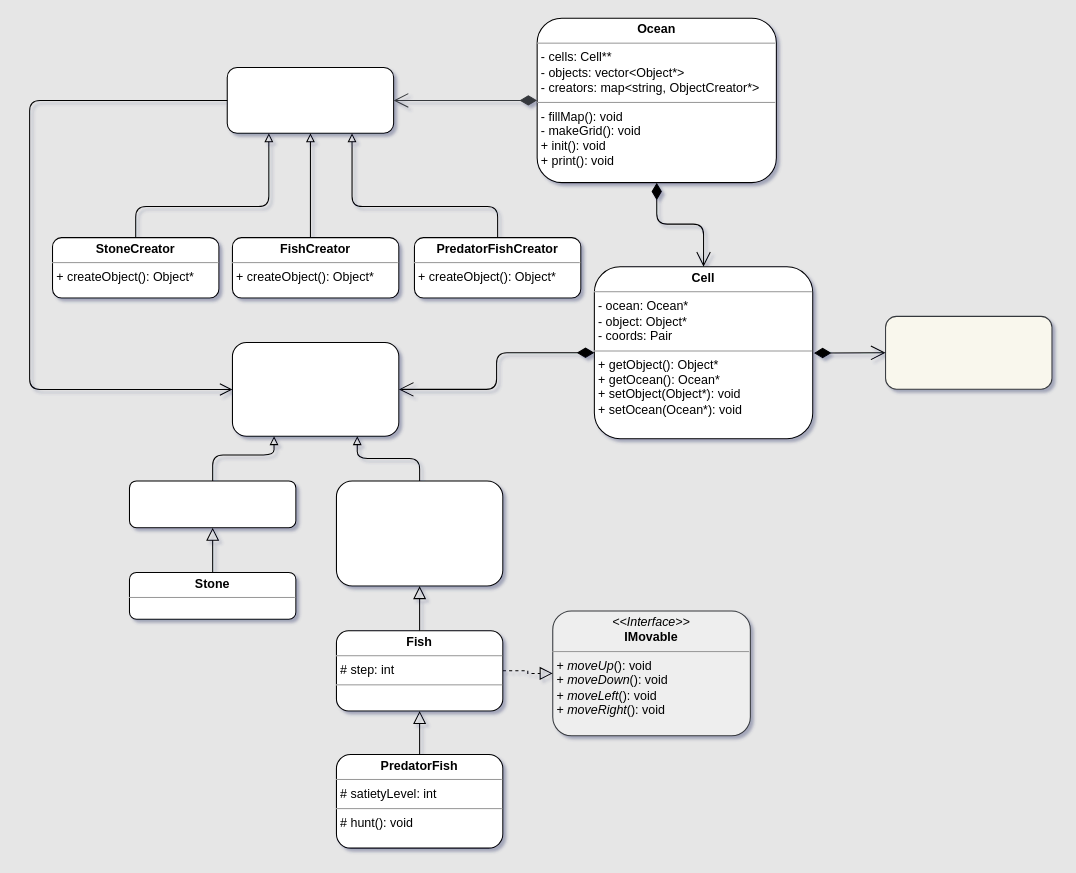
This 1076x873 diagram has some shape labels left out. The box of each missing label's shape, as (x1, y1, x2, y2) in pixels:
Animate # lifeTime: int # breedingSeason: int # breed():: (335, 480, 503, 586)
Inanimate: (128, 480, 296, 528)
Object # cell: Cell* + init (): void: (231, 342, 399, 436)
ObjectCreator - createObject (): Object*: (226, 67, 394, 133)
Pair:Structure + x: int + y: int: (885, 315, 1052, 389)
